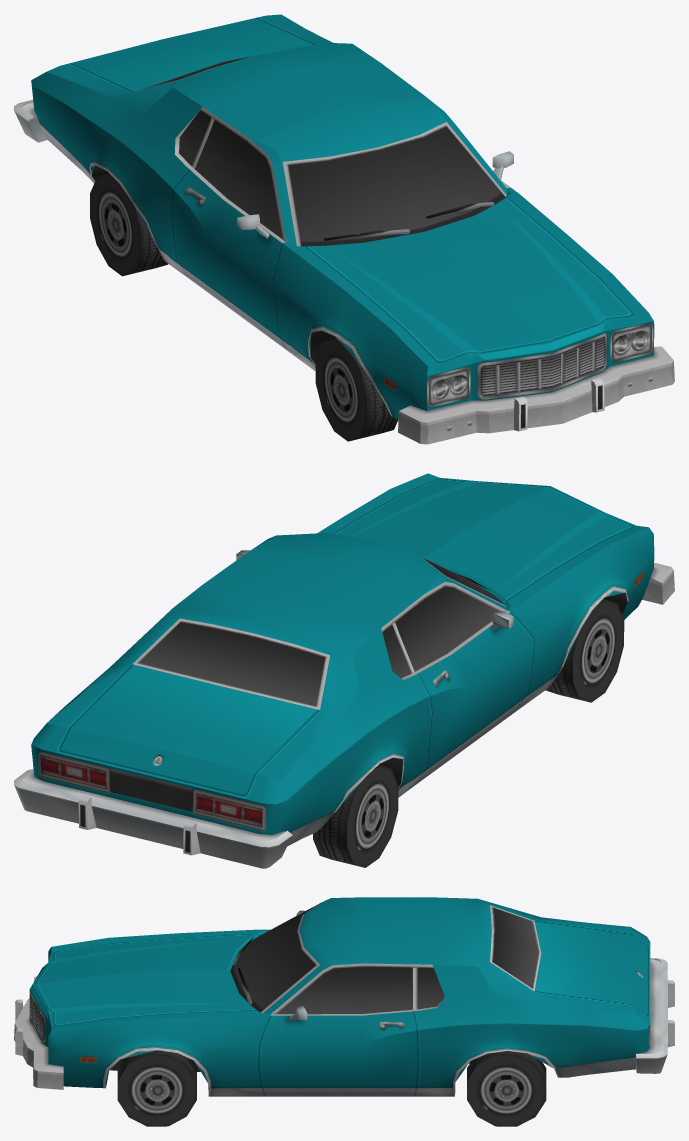
File: Classic_American_Car_LOD1.fbx
The picture shows the model from 3 angles, top to bottom: view 1: azimuth 30°, elevation 25°; view 2: azimuth 150°, elevation 25°; view 3: azimuth 270°, elevation 25°; orthographic projection. The views are drawn at different scales.
Visible parts, largest first — view 1: Chassis, RF_Wheel, RR_Wheel; view 2: Chassis, RR_Wheel, RF_Wheel; view 3: Chassis, LF_Wheel, LR_Wheel.
Part boxes in pixels (x1,y1,x2,y2): Chassis: [14, 14, 674, 444]; RF_Wheel: [315, 338, 397, 441]; RR_Wheel: [90, 173, 168, 276]; Chassis: [14, 473, 674, 868]; RR_Wheel: [313, 764, 398, 867]; RF_Wheel: [545, 599, 624, 702]; Chassis: [14, 897, 674, 1096]; LF_Wheel: [117, 1050, 196, 1126]; LR_Wheel: [467, 1051, 546, 1126].
Size of the model in its own units: 2.07 by 1.47 by 5.61.
2 materials, 2 textured.
